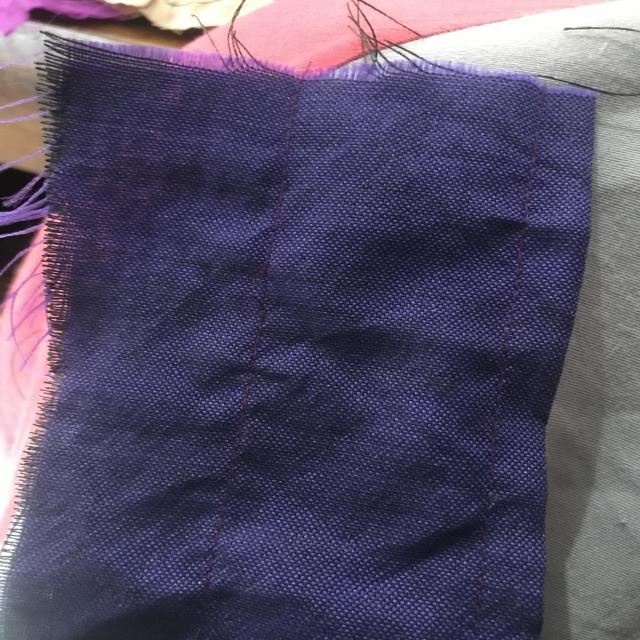broken: (236, 256, 290, 316)
